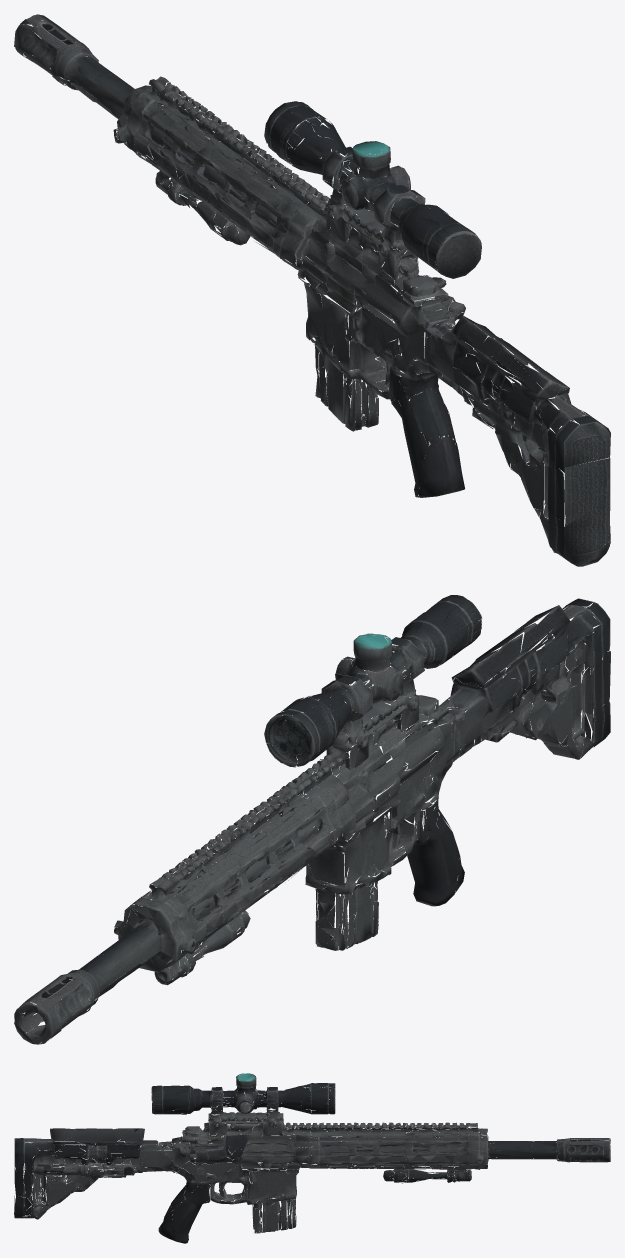
Rendered from sniper-web.glb.
3 renders of one model, top to bottom at view 1: azimuth 30°, elevation 25°; view 2: azimuth 150°, elevation 25°; view 3: azimuth 270°, elevation 25°, orthographic. The views are drawn at different scales.
Bounding box in the file's own units: 0.2958 × 1.06 × 3.5.
Materials: 1 (1 with a texture image).
